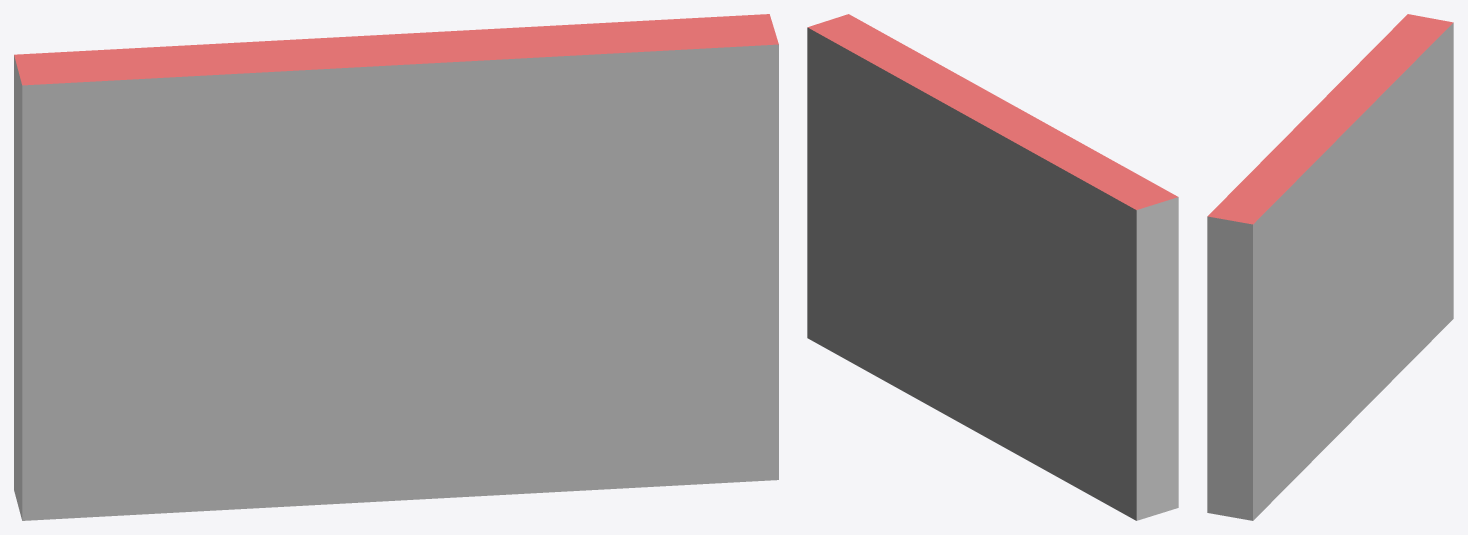
File: DEBY_LOD2_4908183.gltf
3 views of the same model, side by side, from view 1: azimuth 30°, elevation 25°; view 2: azimuth 150°, elevation 25°; view 3: azimuth 270°, elevation 25° (orthographic). The views are drawn at different scales.
Parts seen in each view (by area): view 1: Z_UP; view 2: Z_UP; view 3: Z_UP.
Boxes of the visible parts, left/top/right/bottom form: Z_UP: left=14, top=14, right=778, bottom=520; Z_UP: left=807, top=14, right=1178, bottom=520; Z_UP: left=1207, top=14, right=1453, bottom=520.
Bounding box in the file's own units: 5.99 × 3.93 × 2.96.
